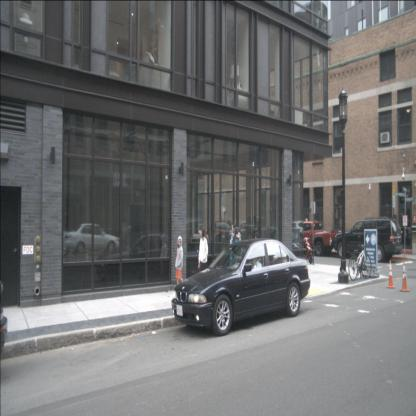human-pedestrian-adult: (229, 223, 242, 286), (196, 226, 209, 288)
movable_object-trafficcone: (400, 263, 410, 292), (387, 260, 395, 289)
vehicle-bicycle: (349, 244, 372, 281)
vehicle-car: (172, 237, 310, 336), (96, 233, 193, 289), (334, 216, 402, 262), (164, 217, 211, 257), (63, 223, 121, 254)
vehicle-motorcycle: (292, 231, 315, 263)
vehicle-truck: (292, 221, 338, 256)
